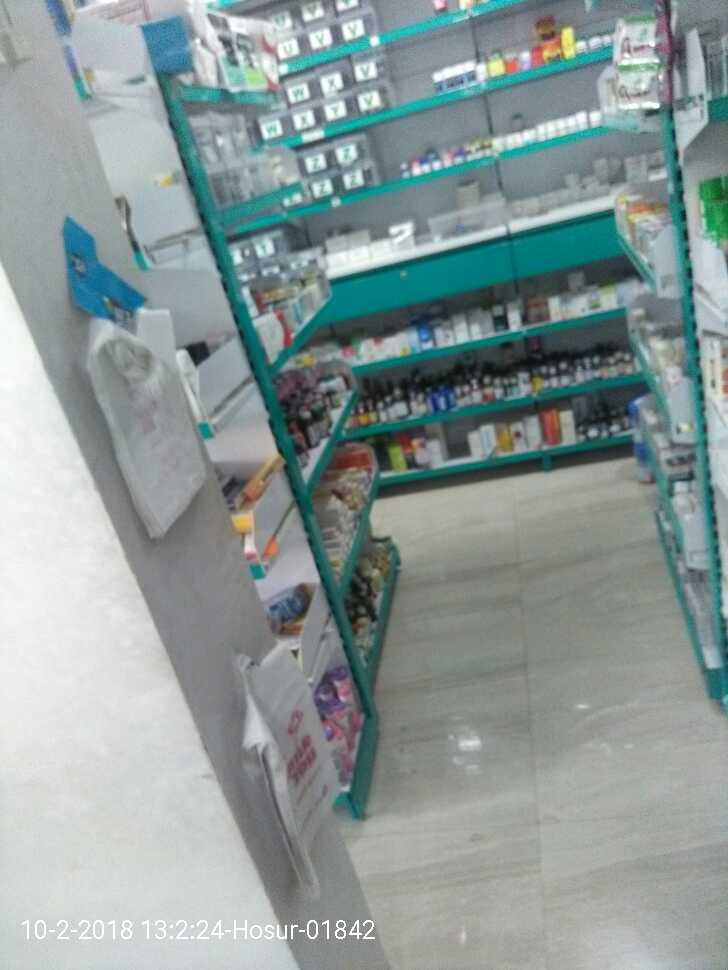reject: (348, 415, 467, 544)
